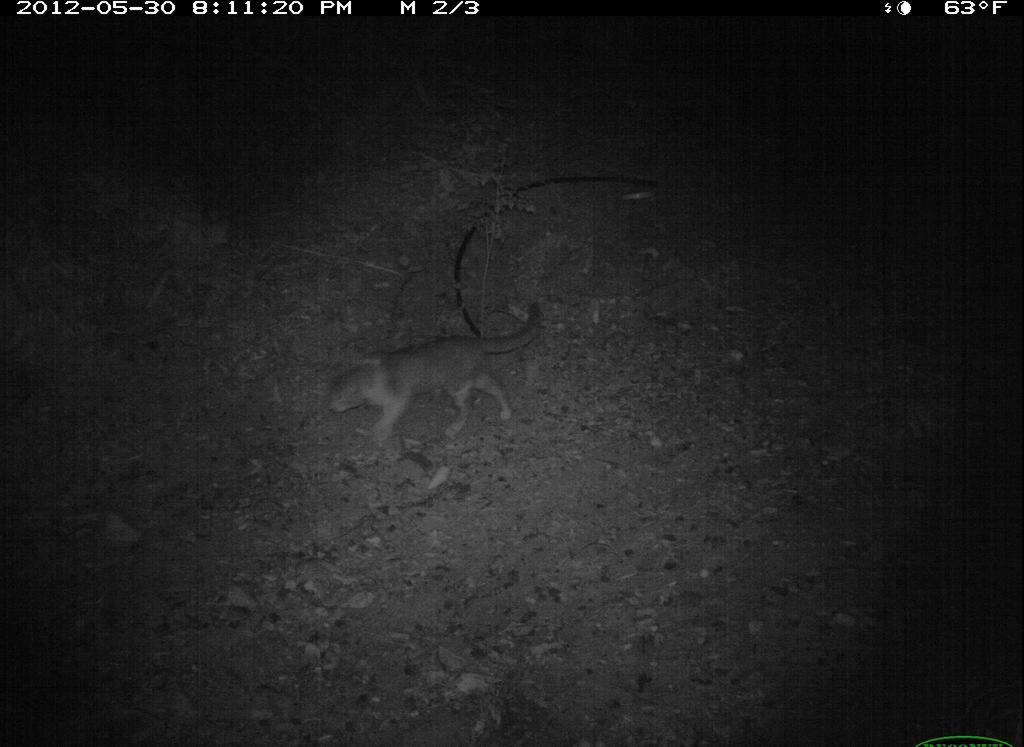cat: (310, 280, 564, 486)
